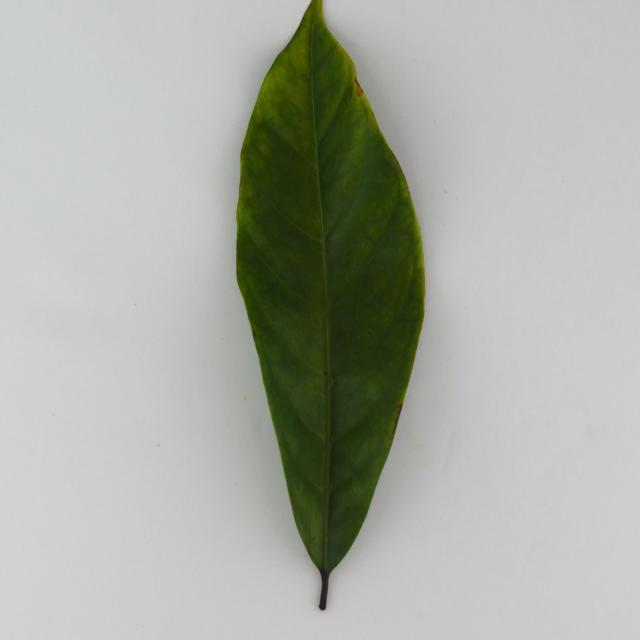DeficienciaNutricional-Manganeso: (236, 0, 425, 610)
